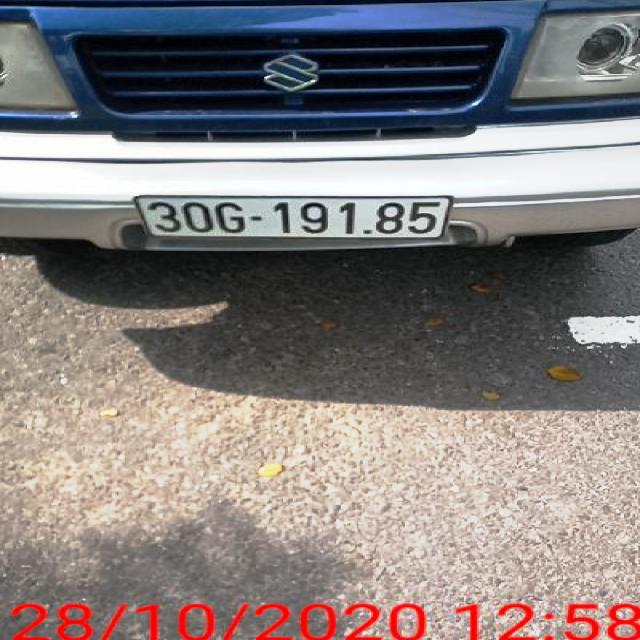license_plate: (141, 196, 452, 242)
